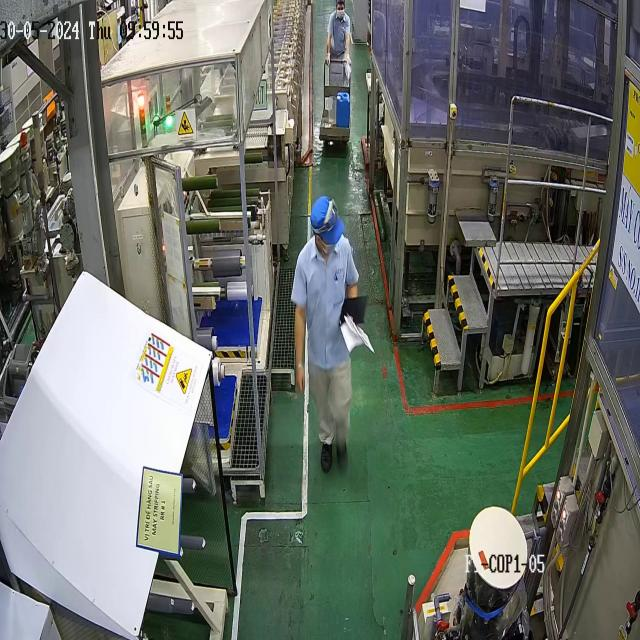Person: (290, 195, 360, 473), (325, 0, 351, 88)
